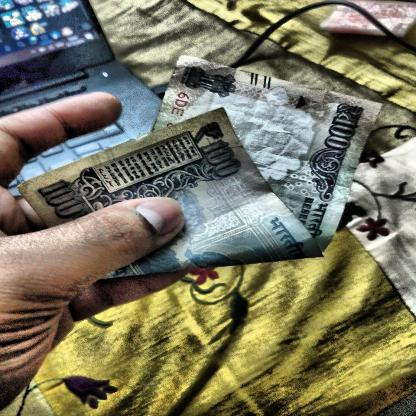Rs100: (180, 116, 249, 184), (319, 101, 369, 155)
